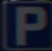Parking: (10, 0, 45, 44)
